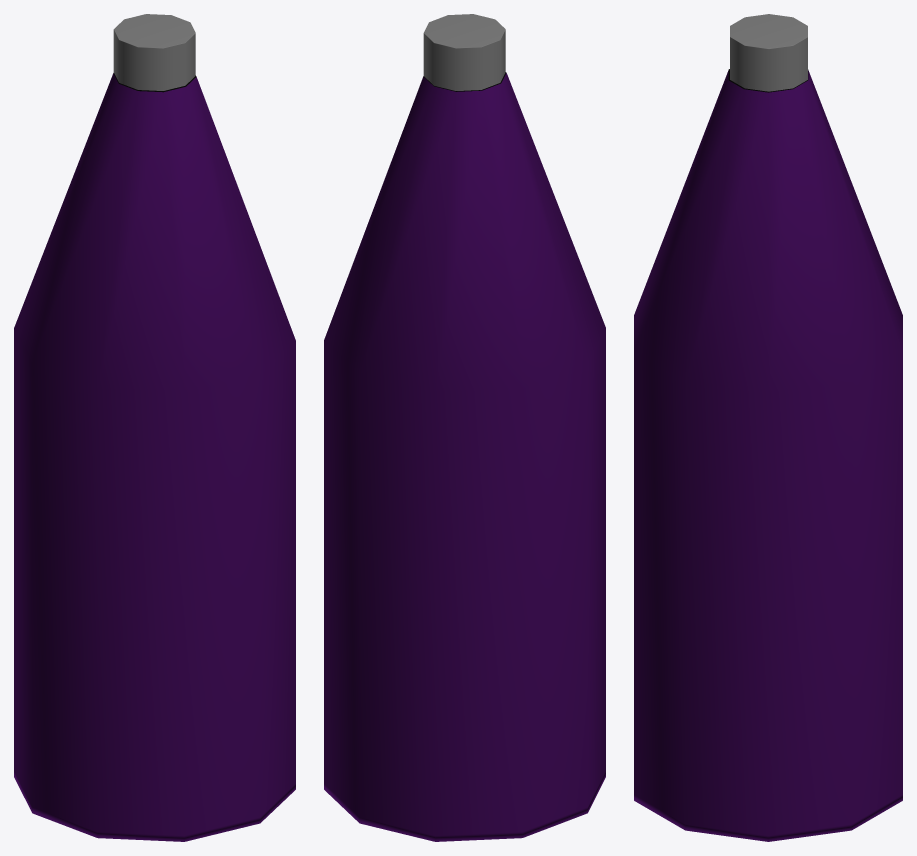
File: Hotdog Grape.fbx
3 renders of one model, left to right at view 1: azimuth 30°, elevation 25°; view 2: azimuth 150°, elevation 25°; view 3: azimuth 270°, elevation 25°, orthographic.
Visible parts, largest first — view 1: pasted__polySurface322; view 2: pasted__polySurface322; view 3: pasted__polySurface322.
Boxes of the visible parts, x1,y1,x2,y2 form: pasted__polySurface322: (14, 14, 295, 841); pasted__polySurface322: (324, 14, 605, 841); pasted__polySurface322: (634, 14, 902, 841).
Bounding box in the file's own units: 0.1157 × 0.3389 × 0.11.
